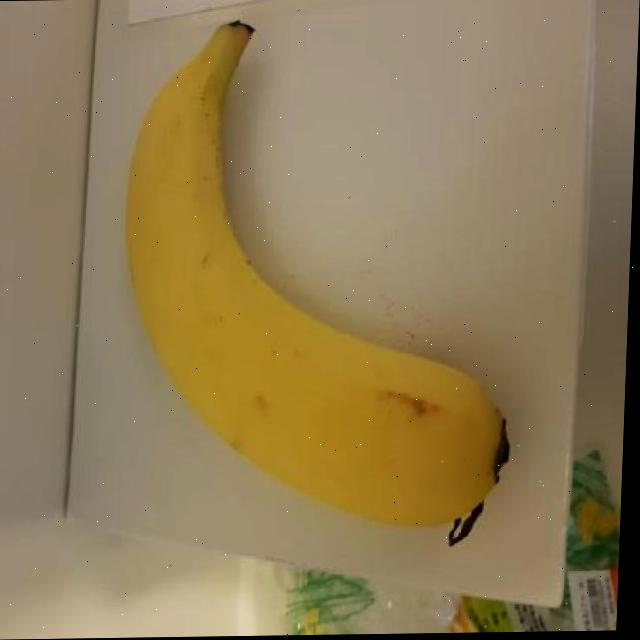banana: (106, 10, 531, 549)
